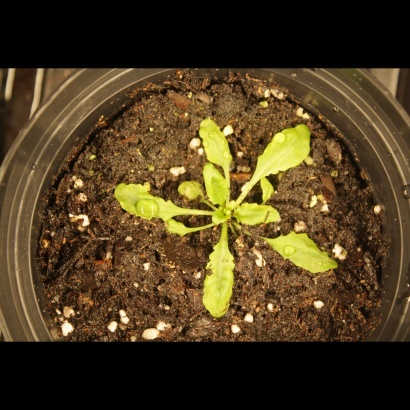leaf: (247, 120, 312, 189), (200, 240, 242, 329), (271, 231, 342, 278), (110, 178, 175, 222), (196, 112, 237, 175), (235, 201, 289, 230), (200, 160, 230, 208), (176, 172, 203, 205), (163, 218, 192, 242), (257, 179, 280, 202)
